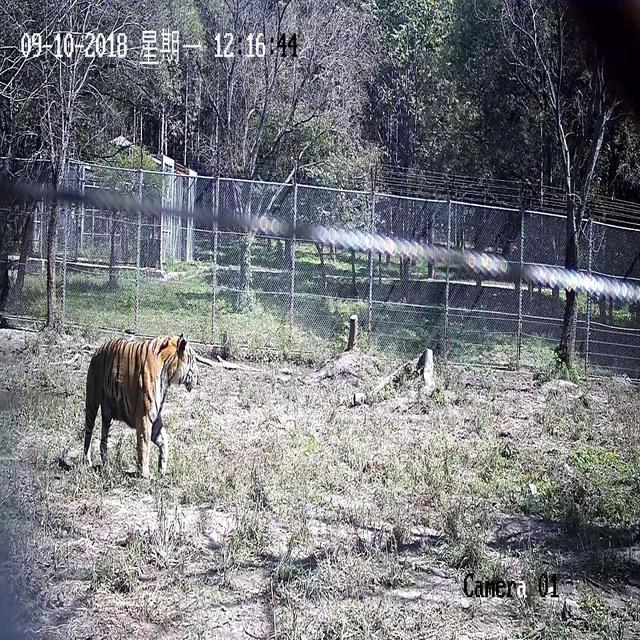tiger: (81, 332, 199, 479)
